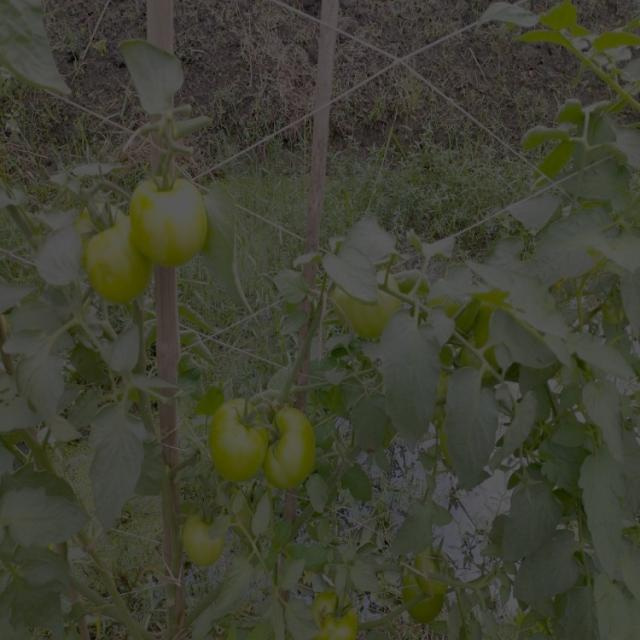tomato: (127, 173, 209, 263), (85, 215, 149, 303), (261, 403, 320, 490), (211, 392, 269, 479), (336, 285, 386, 336), (184, 512, 228, 562), (404, 568, 441, 621), (411, 551, 456, 589), (320, 611, 352, 639), (324, 592, 357, 619)
